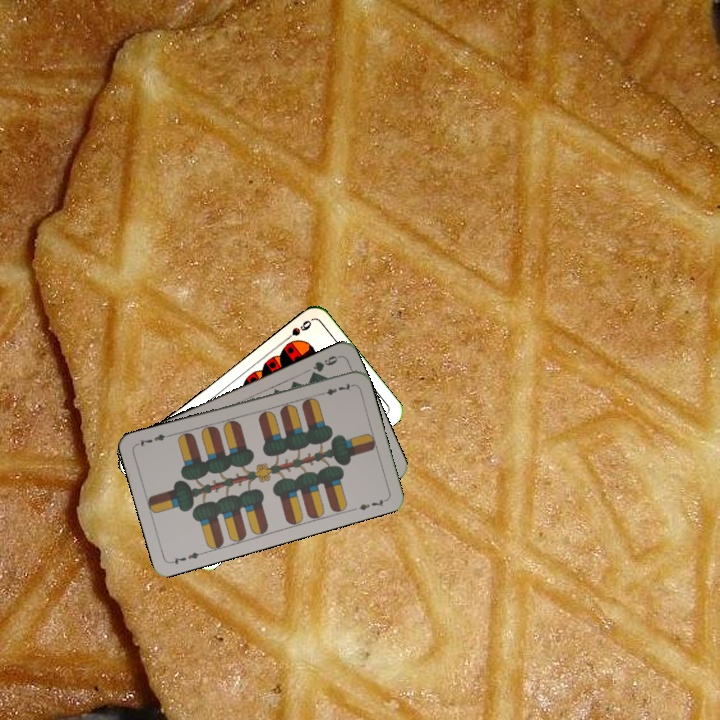E7: (315, 379, 355, 398), (167, 548, 207, 567)
G9: (306, 351, 342, 380)
S9: (279, 316, 314, 345)
